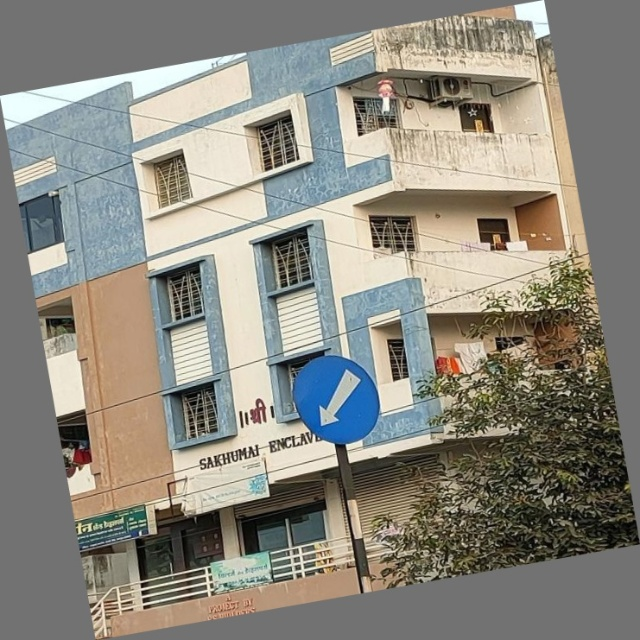R.301e: (278, 342, 397, 455)
